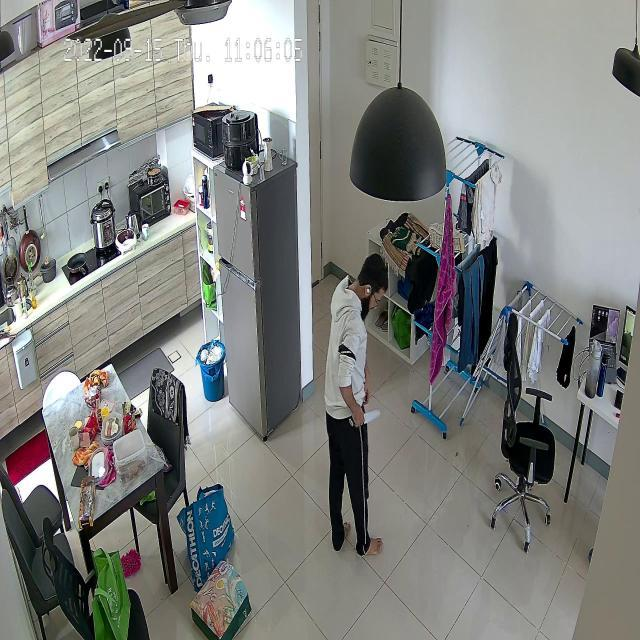Knife: (342, 401, 398, 438)
